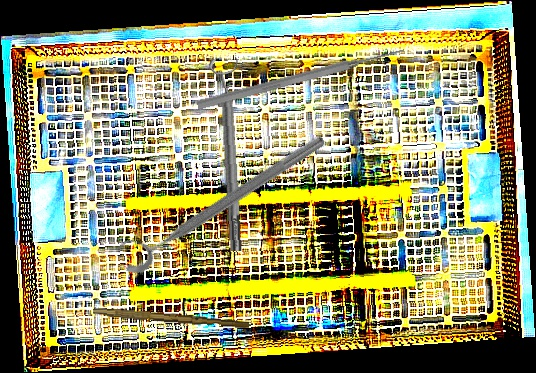Fixation Ring: (110, 117, 331, 280), (208, 57, 251, 252)
Pusher: (195, 43, 407, 113)
Scalpel Handle: (92, 307, 250, 330)
